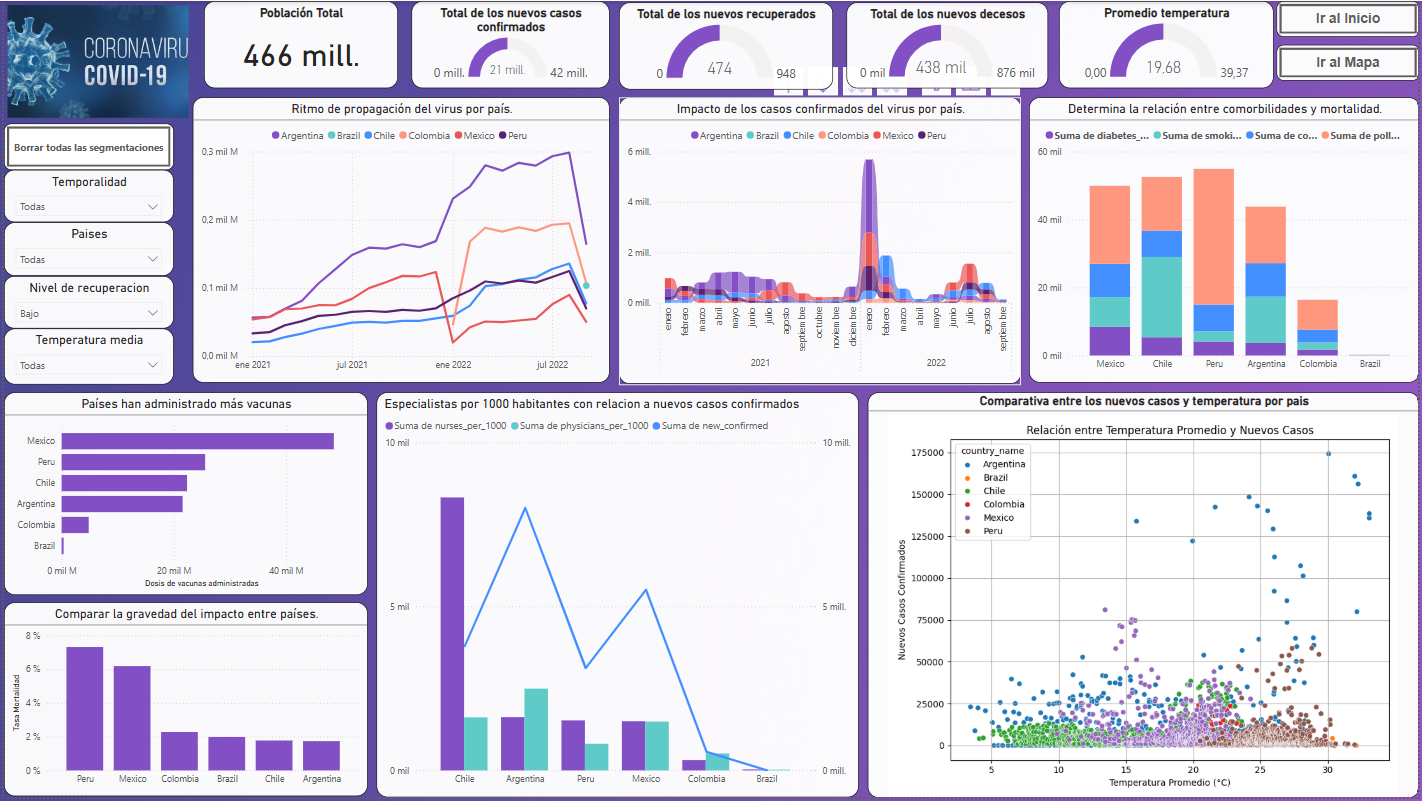

The page's visual inventory and layout, read from the dashboard file:
{"tool":"powerbi","page":{"name":"Reporte","canvas":[1920,1080],"ordinal":1},"visuals":[{"type":"ribbonChart","title":"Impacto de los casos confirmados del  virus por país.","fields":{"Category":["Df_datos_finales_filtrado.date.Variación.Jerarquía de fechas.Año","Df_datos_finales_filtrado.date.Variación.Jerarquía de fechas.Mes"],"Series":["Df_datos_finales_filtrado.country_name"],"Y":["Sum(Df_datos_finales_filtrado.new_confirmed)"]},"box":[834.3,131.4,545.7,388.6],"z":0},{"type":"slicer","title":"Temporalidad","fields":{"Values":["Df_datos_finales_filtrado.date.Variación.Jerarquía de fechas.Año","Df_datos_finales_filtrado.date.Variación.Jerarquía de fechas.Mes"]},"box":[0,228.6,230,71.4],"z":1000},{"type":"slicer","title":"Paises","fields":{"Values":["Df_datos_finales_filtrado.country_name"]},"box":[0,300,230,72.9],"z":2000},{"type":"slicer","title":"Nivel de recuperacion","fields":{"Values":["Df_datos_finales_filtrado.nivel_recuperacion"]},"box":[0,372.9,230,71.4],"z":3000},{"type":"slicer","title":"Temperatura media","fields":{"Values":["Df_datos_finales_filtrado.average_temperature_celsius"]},"box":[0,444.3,230,75.7],"z":4000},{"type":"gauge","title":"Total de los nuevos casos confirmados","fields":{"Y":["Sum(Df_datos_finales_filtrado.new_confirmed)"]},"box":[552.9,0,268.6,118.6],"z":5000},{"type":"gauge","title":"Total de los nuevos decesos","fields":{"Y":["Sum(Df_datos_finales_filtrado.new_deceased)"]},"box":[1143.3,1.7,273.3,116.7],"z":6000},{"type":"gauge","title":"Total de los nuevos recuperados","fields":{"Y":["Sum(Df_datos_finales_filtrado.new_recovered)"]},"box":[835,1.7,290,118.3],"z":7000},{"type":"card","title":"Población Total","fields":{"Values":["medidas.poblacion paises"]},"box":[271.4,0,262.9,118.6],"z":8000},{"type":"gauge","title":"Promedio temperatura","fields":{"Y":["Avg(Df_datos_finales_filtrado.average_temperature_celsius)"]},"box":[1431.4,0,291.4,118.6],"z":9000},{"type":"barChart","title":"Países han administrado más vacunas","fields":{"Category":["Df_datos_finales_filtrado.country_name"],"Y":["Sum(Df_datos_finales_filtrado.cumulative_vaccine_doses_administered)"]},"box":[0,530.2,493.6,275.6],"z":10000},{"type":"clusteredColumnChart","title":"Comparar la gravedad del impacto entre países.","fields":{"Y":["medidas.Tasa Mortalidad"],"Category":["Df_datos_finales_filtrado.country_name"]},"box":[0,816.3,493.6,263.4],"z":11000},{"type":"columnChart","title":"Determina la relación entre comorbilidades y mortalidad.","fields":{"Category":["Df_datos_finales_filtrado.country_name"],"Y":["Sum(Df_datos_finales_filtrado.diabetes_prevalence)","Sum(Df_datos_finales_filtrado.smoking_prevalence)","Sum(Df_datos_finales_filtrado.comorbidity_mortality_rate)","Sum(Df_datos_finales_filtrado.pollution_mortality_rate)"]},"box":[1390,131.4,530,387.1],"z":12000},{"type":"lineChart","title":"Ritmo de propagación del virus por país.","fields":{"Category":["Df_datos_finales_filtrado.date.Variación.Jerarquía de fechas.Año","Df_datos_finales_filtrado.date.Variación.Jerarquía de fechas.Mes"],"Series":["Df_datos_finales_filtrado.country_name"],"Y":["Sum(Df_datos_finales_filtrado.cumulative_confirmed)"]},"box":[255.7,131.4,565.7,387.1],"z":13000},{"type":"pythonVisual","title":"Comparativa entre los nuevos casos y temperatura por pais","fields":{"Values":["Df_datos_finales_filtrado.country_name","Df_datos_finales_filtrado.average_temperature_celsius","Df_datos_finales_filtrado.new_confirmed"]},"box":[1171.7,530.3,748.9,550],"z":14000},{"type":"actionButton","box":[0,165.7,230,62.9],"z":15000},{"type":"actionButton","title":"Inicio","box":[1725.7,0,194.3,48.6],"z":16000},{"type":"image","box":[0,0,255.7,164.3],"z":17000},{"type":"actionButton","title":"Inicio","box":[1725.7,60,194.3,48.6],"z":18000},{"type":"lineClusteredColumnComboChart","title":"Especialistas por 1000 habitantes con relacion a nuevos casos confirmados","fields":{"Category":["Df_datos_finales_filtrado.country_name"],"Y":["Sum(Df_datos_finales_filtrado.nurses_per_1000)","Sum(Df_datos_finales_filtrado.physicians_per_1000)"],"Y2":["Sum(Df_datos_finales_filtrado.new_confirmed)"]},"box":[505.8,530.2,654.1,549.4],"z":19000}]}

Visuals, with their boxes in screenshot pixels (x1, y1, x2, y2), scaled from the page's 1920x1080 canvas onto the 1422x801 screenshot:
"Impacto de los casos confirmados del  virus por país." ribbonChart: [x1=618, y1=97, x2=1022, y2=386]
"Temporalidad" slicer: [x1=0, y1=170, x2=170, y2=222]
"Paises" slicer: [x1=0, y1=222, x2=170, y2=277]
"Nivel de recuperacion" slicer: [x1=0, y1=277, x2=170, y2=330]
"Temperatura media" slicer: [x1=0, y1=330, x2=170, y2=386]
"Total de los nuevos casos confirmados" gauge: [x1=409, y1=0, x2=608, y2=88]
"Total de los nuevos decesos" gauge: [x1=847, y1=1, x2=1049, y2=88]
"Total de los nuevos recuperados" gauge: [x1=618, y1=1, x2=833, y2=89]
"Población Total" card: [x1=201, y1=0, x2=396, y2=88]
"Promedio temperatura" gauge: [x1=1060, y1=0, x2=1276, y2=88]
"Países han administrado más vacunas" barChart: [x1=0, y1=393, x2=366, y2=598]
"Comparar la gravedad del impacto entre países." clusteredColumnChart: [x1=0, y1=605, x2=366, y2=800]
"Determina la relación entre comorbilidades y mortalidad." columnChart: [x1=1029, y1=97, x2=1421, y2=385]
"Ritmo de propagación del virus por país." lineChart: [x1=189, y1=97, x2=608, y2=385]
"Comparativa entre los nuevos casos y temperatura por pais" pythonVisual: [x1=868, y1=393, x2=1421, y2=800]
actionButton: [x1=0, y1=123, x2=170, y2=170]
"Inicio" actionButton: [x1=1278, y1=0, x2=1421, y2=36]
image: [x1=0, y1=0, x2=189, y2=122]
"Inicio" actionButton: [x1=1278, y1=44, x2=1421, y2=81]
"Especialistas por 1000 habitantes con relacion a nuevos casos confirmados" lineClusteredColumnComboChart: [x1=375, y1=393, x2=859, y2=800]
